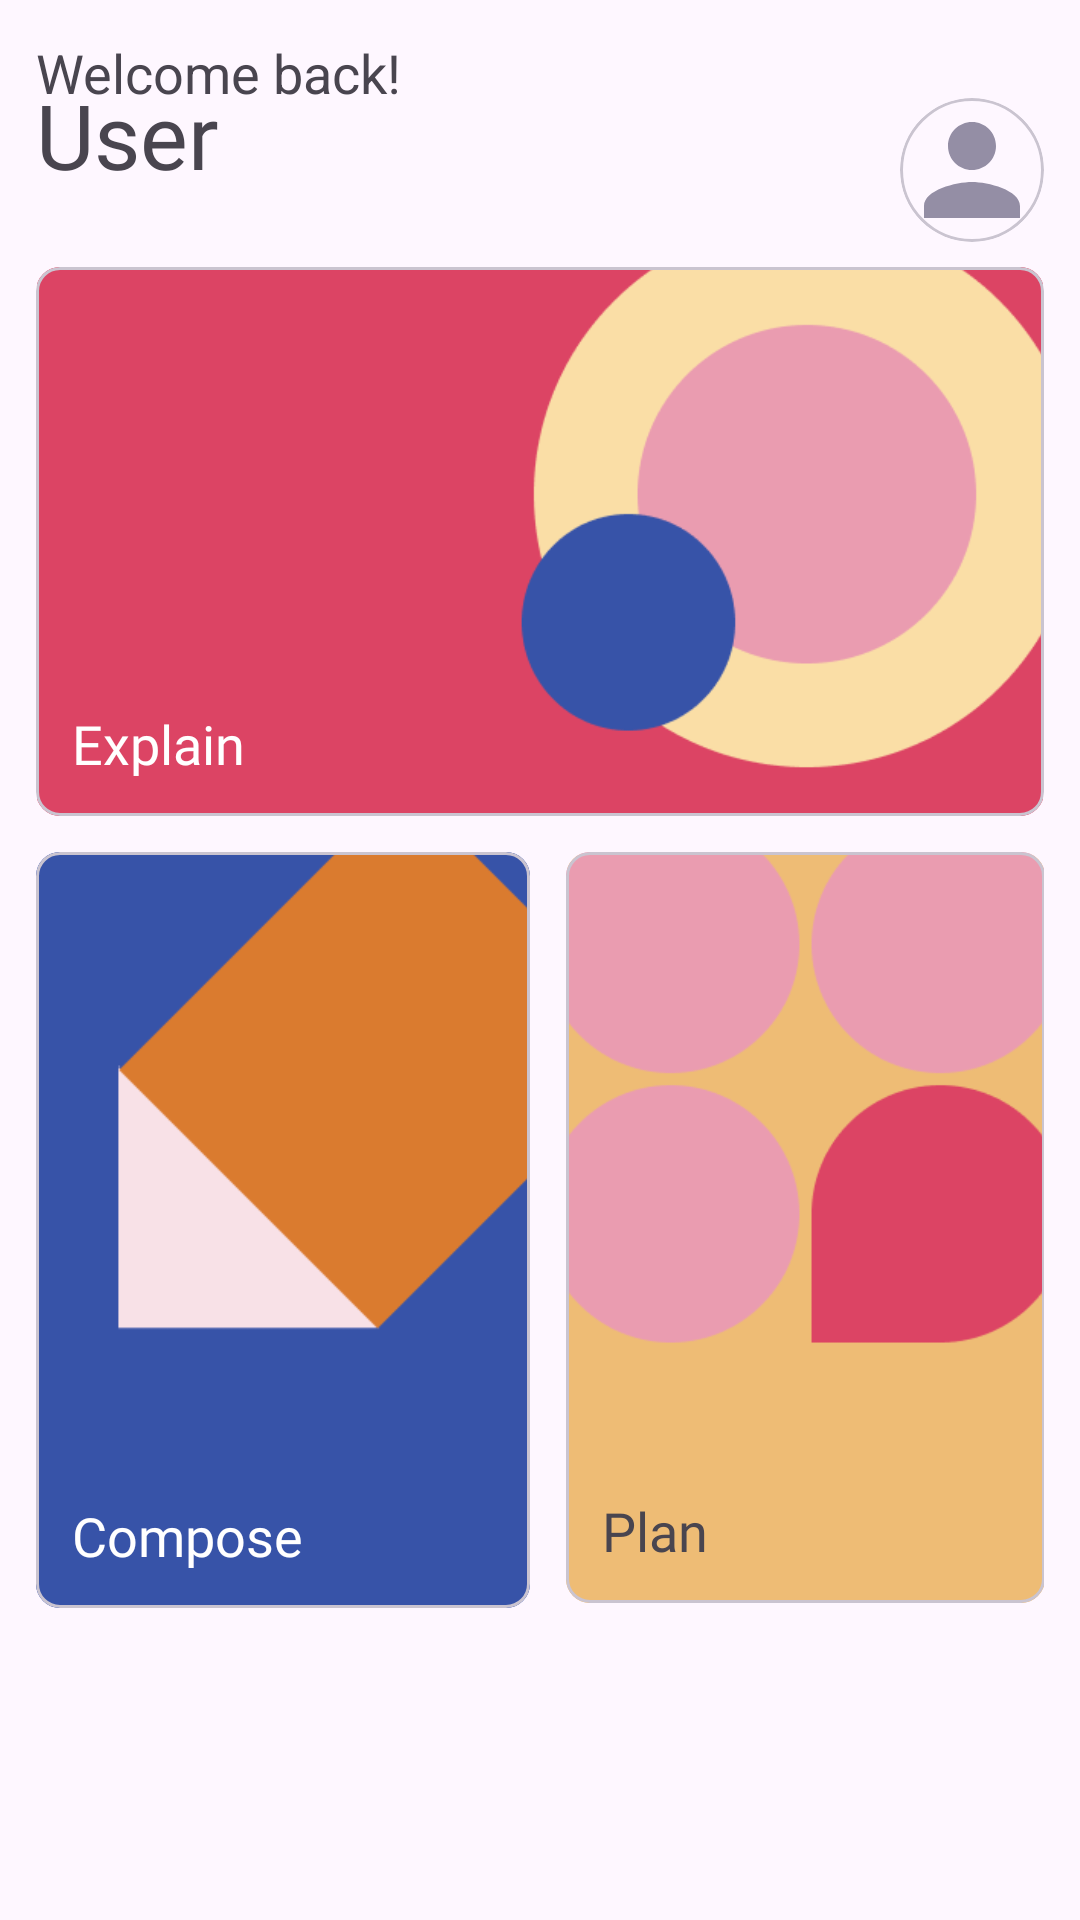

Where to tap for icons on this 1080 x 1920 app screen, as (x=x, y=y):
person: (x=972, y=170)
